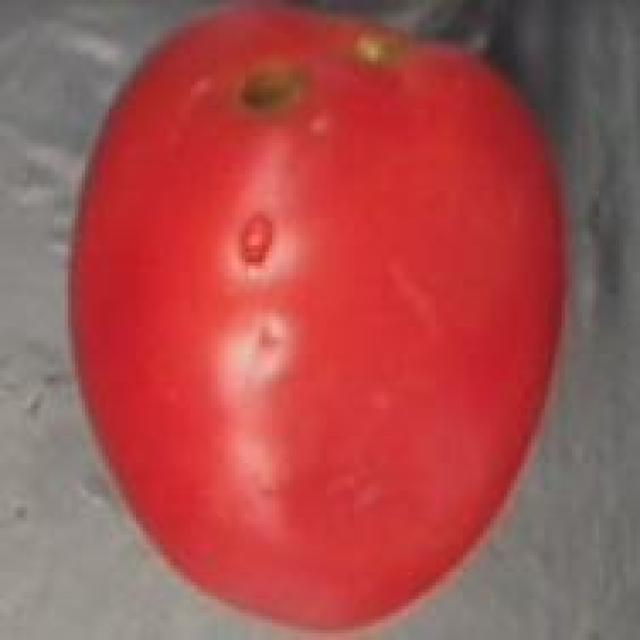overripe tomato: (58, 0, 599, 640)
